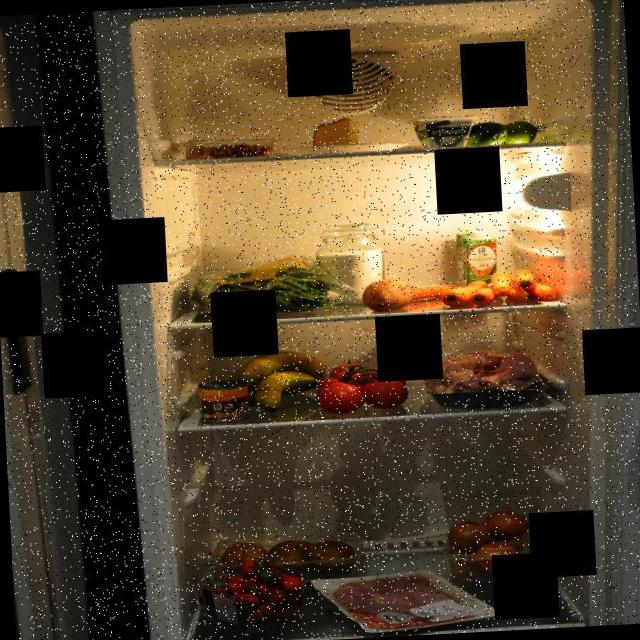Carne cerdo: (320, 569, 498, 638)
Carne pollo: (413, 344, 552, 412)
Cebolla: (448, 507, 546, 578)
Gambas/Langostinos: (194, 142, 280, 161)
Patata: (219, 534, 365, 580)
Plátano: (234, 351, 327, 412)
Queso: (309, 118, 365, 151)
Tomate: (316, 354, 415, 416)
Zanahoria: (411, 266, 565, 312)
